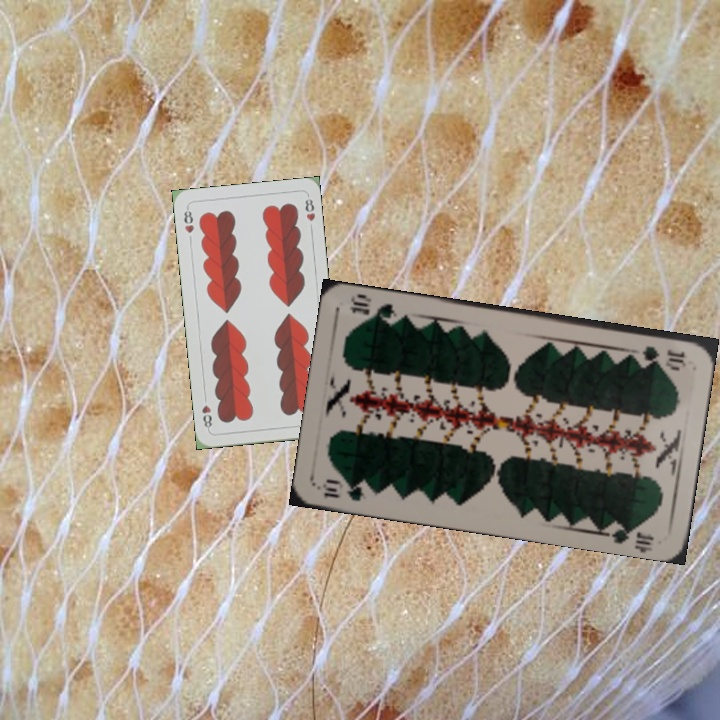G10: (319, 474, 366, 504), (637, 341, 689, 368)
H8: (180, 204, 197, 236)
